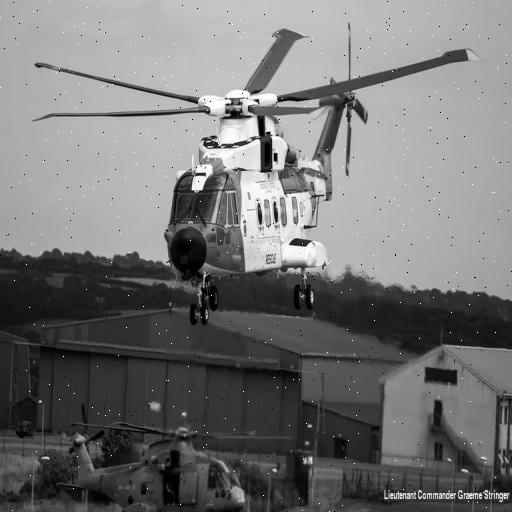helicopter: (34, 29, 484, 324)
